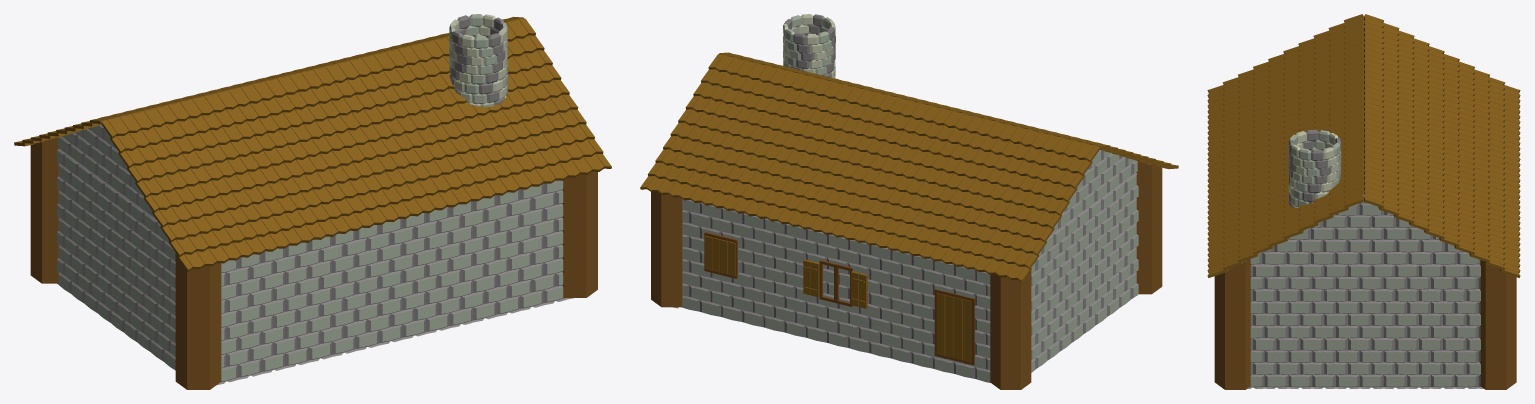
Rendered from Maison modèle v3.0.fbx.
The picture shows the model from 3 angles, left to right: view 1: azimuth 30°, elevation 25°; view 2: azimuth 150°, elevation 25°; view 3: azimuth 270°, elevation 25°; orthographic projection. The views are drawn at different scales.
Visible parts, largest first — view 1: Maison modèle; view 2: Maison modèle; view 3: Maison modèle.
Boxes of the visible parts, x1=… form: Maison modèle: x1=14, y1=14, x2=611, y2=389; Maison modèle: x1=640, y1=14, x2=1178, y2=389; Maison modèle: x1=1207, y1=14, x2=1520, y2=389.
Bounding box in the file's own units: 4611 × 2571 × 3286.
